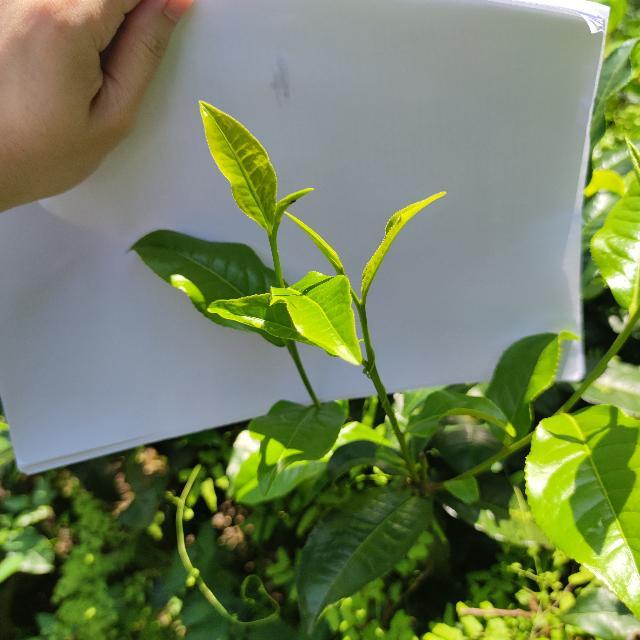Stem: (356, 306, 369, 328), (269, 240, 279, 259)
